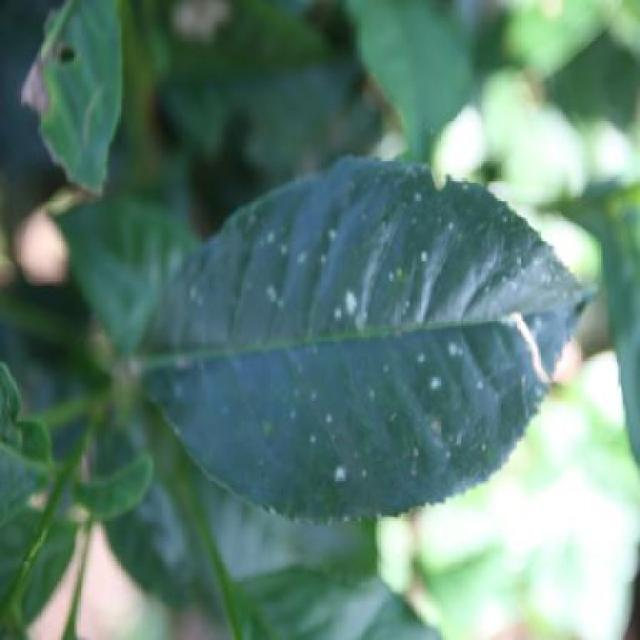White spot of tea: (129, 151, 589, 518)
